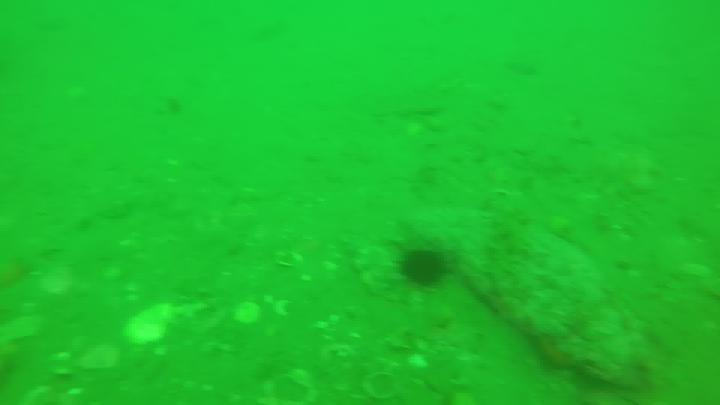echinus: (403, 247, 446, 286)
holothurian: (487, 193, 534, 272)
scallop: (119, 304, 182, 343), (274, 370, 318, 405), (363, 372, 402, 405), (234, 303, 266, 327), (280, 248, 305, 268)
